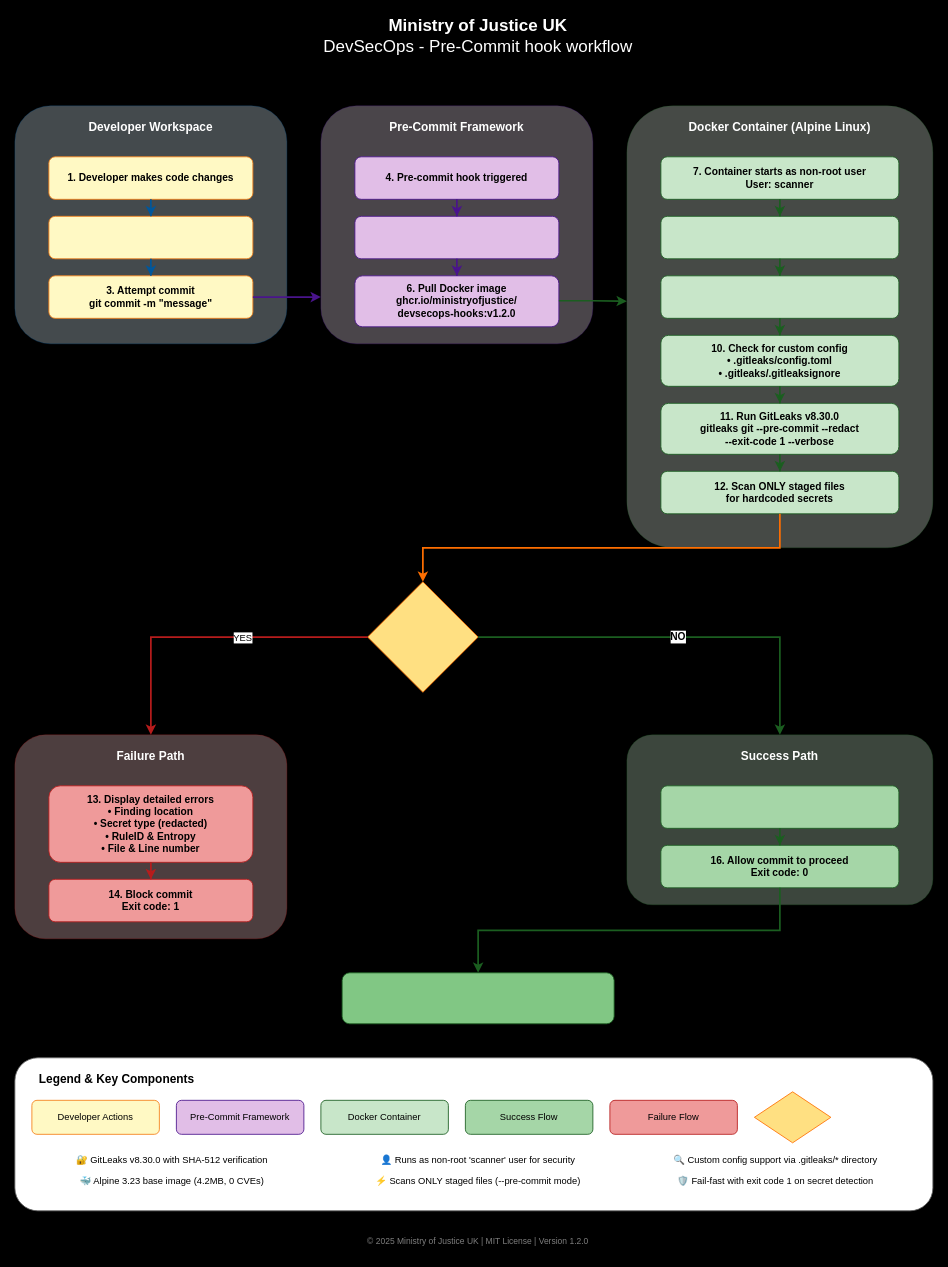
The diagram is 948 pixels wide and 1267 high, and some of its shapes have lost their labels. Here are the shapes that lost their labels. From the top down, the box of each, then its label:
(48, 215, 253, 259): 2. Stage files git add .
(354, 215, 559, 259): 5. Read .pre-commit-config.yaml Load hook configuration
(660, 215, 899, 259): 8. Mount repository to /src Access staged files
(660, 275, 899, 318): 9. Execute scan.sh ENTRYPOINT: /app/scripts/scan.sh
(367, 581, 478, 692): Secrets Found?
(660, 785, 899, 828): 15. Display success ✅ No secrets detected
(341, 972, 614, 1024): Commit Created & Ready for Push
(754, 1091, 831, 1143): Decision Point
